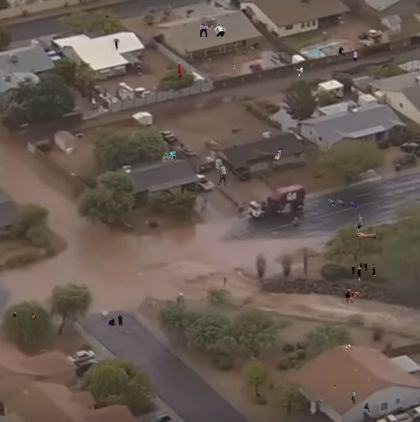Human: (355, 214, 376, 239), (351, 261, 377, 281), (328, 199, 361, 213), (336, 45, 358, 65), (198, 23, 227, 37), (146, 150, 177, 163), (215, 164, 227, 186), (345, 289, 361, 303), (107, 314, 123, 328), (13, 312, 36, 320), (272, 147, 285, 161), (177, 62, 182, 84), (296, 67, 304, 78), (223, 276, 229, 289), (351, 390, 356, 404), (345, 344, 353, 352), (363, 403, 370, 412), (286, 192, 294, 198), (115, 39, 118, 50), (232, 64, 235, 69), (333, 384, 336, 388), (106, 16, 110, 19), (271, 117, 273, 122), (380, 378, 382, 383), (84, 351, 86, 356), (20, 8, 23, 11)
